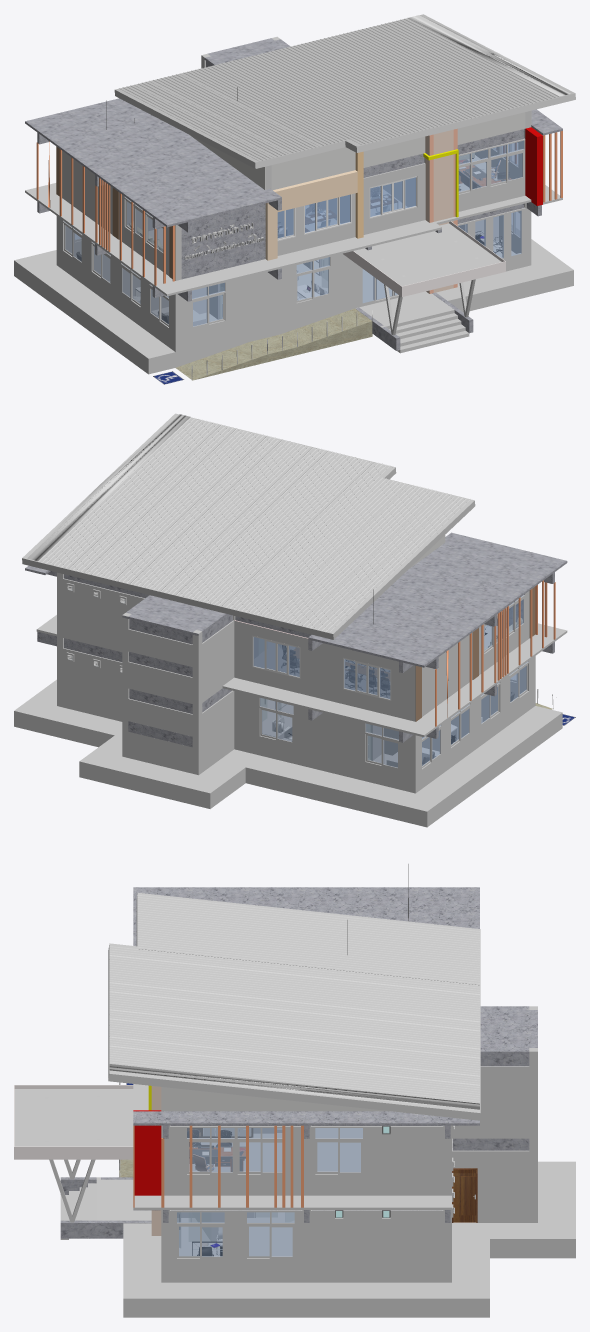
The model's file is obt_office.glb.
3 views of the same model, one above another, from view 1: azimuth 30°, elevation 25°; view 2: azimuth 150°, elevation 25°; view 3: azimuth 270°, elevation 25° (orthographic). The views are drawn at different scales.
Parts seen in each view (by area): view 1: BANKOK; view 2: BANKOK; view 3: BANKOK.
Boxes of the visible parts, box(x1,y1,x2,y2) form: BANKOK: box(14, 14, 575, 384); BANKOK: box(14, 413, 575, 827); BANKOK: box(14, 864, 575, 1317).
Bounding box in the file's own units: 20.5 × 10.11 × 19.93.
Materials: 161 (57 with a texture image).
